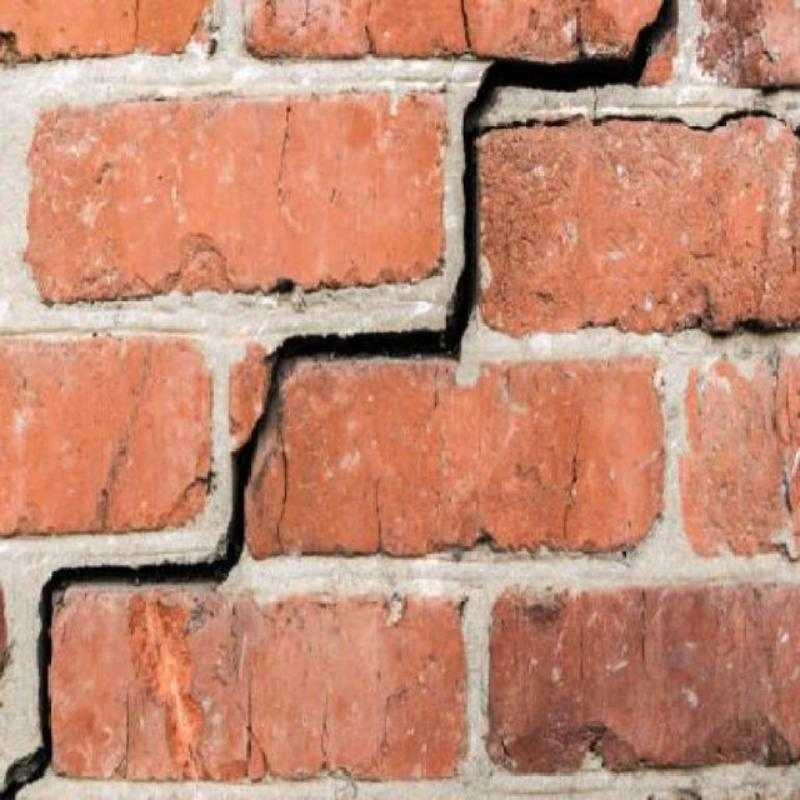pothole: (0, 0, 675, 799), (486, 109, 799, 139), (560, 418, 584, 540), (244, 674, 269, 775), (278, 101, 292, 198), (115, 690, 130, 780), (276, 435, 288, 546), (320, 692, 332, 762), (639, 590, 648, 661), (461, 1, 472, 48), (375, 480, 382, 551), (365, 2, 374, 52), (132, 0, 140, 45), (578, 626, 584, 679), (591, 89, 599, 119)
